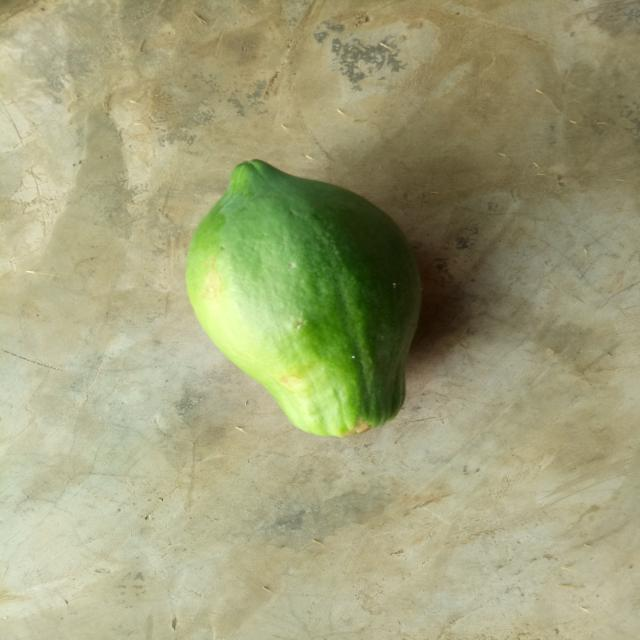Pepaya unrippen: (181, 156, 438, 434)
